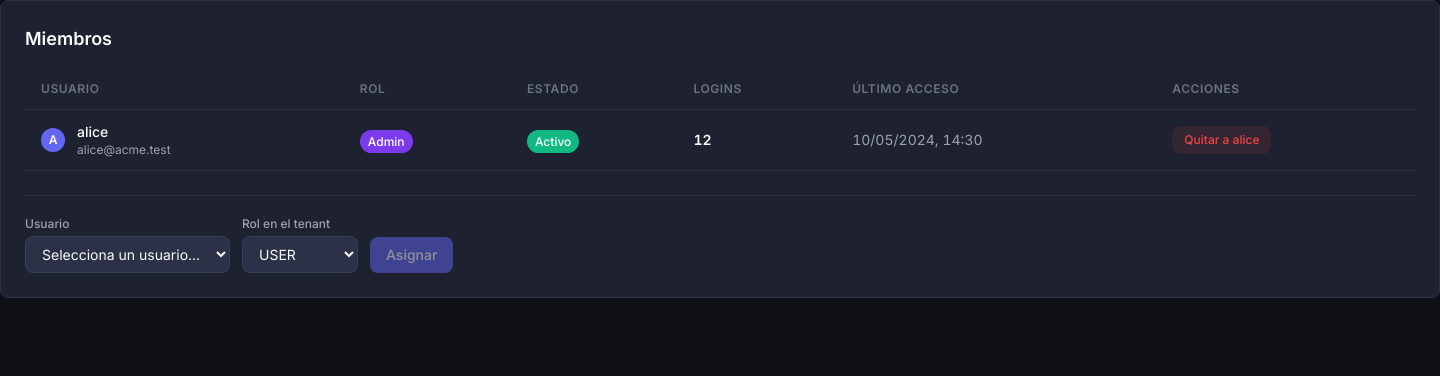
Test case: TenantMembers — asignación (POST) › tras un POST correcto debería recargar la lista de miembros
Select "bob (bob@acme.test)" in the dropdown labelled "Usuario" at [128, 254], box [25,236,230,273]
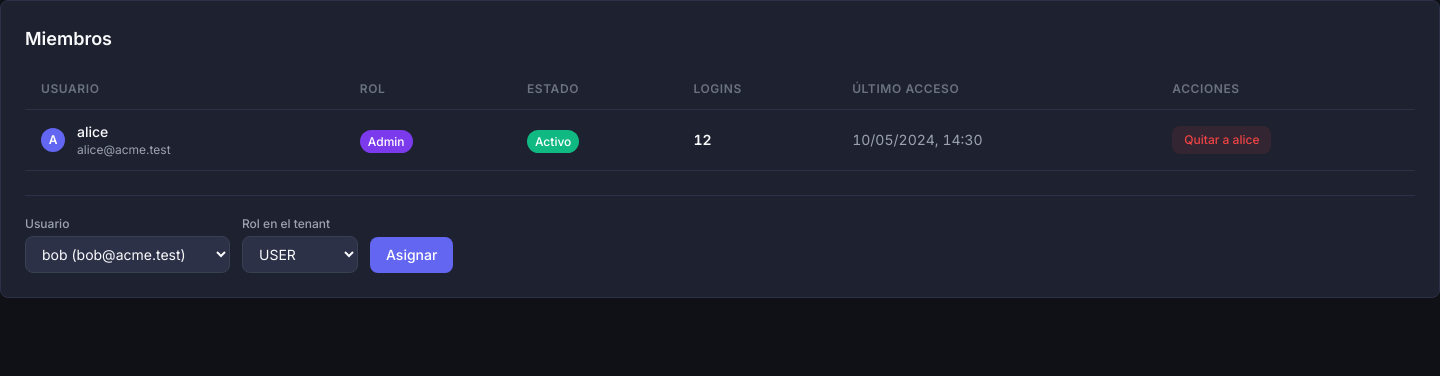
Click the button "Asignar".
click(412, 255)  # box [370,237,453,273]
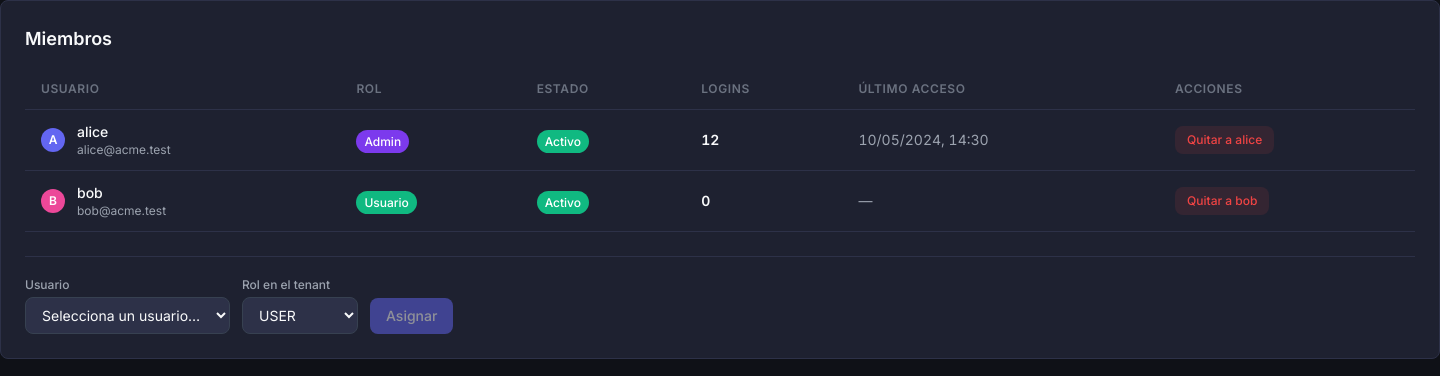
Expected: the text "bob" is shown, [77,184,103,201]
